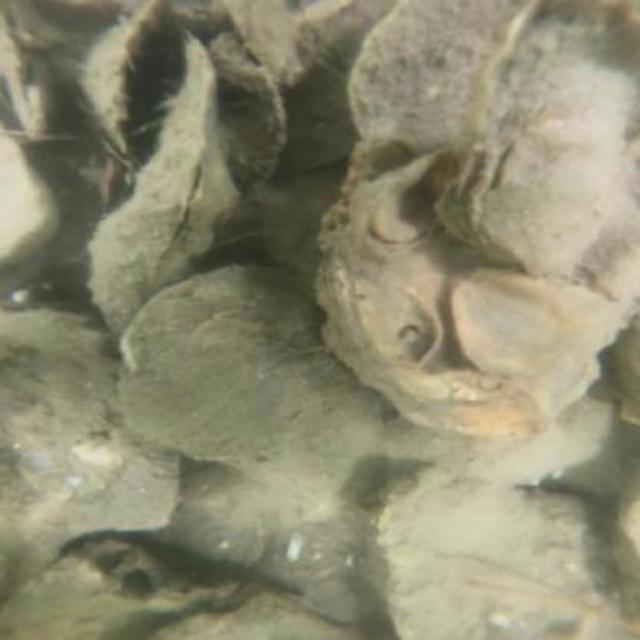Oyster-Closed: (316, 141, 640, 443), (126, 261, 382, 515), (0, 307, 186, 610), (446, 0, 640, 275), (78, 28, 242, 344), (361, 470, 640, 640), (143, 466, 372, 624), (354, 1, 526, 154), (138, 595, 369, 640)
